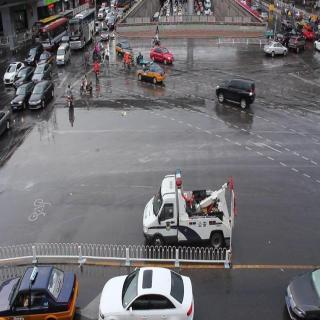BigCar: (70, 15, 92, 53)
Car: (140, 168, 243, 246), (102, 266, 191, 320), (0, 260, 76, 320), (219, 73, 256, 121), (133, 54, 168, 89), (28, 78, 53, 116), (264, 36, 290, 71), (146, 41, 182, 66), (112, 36, 135, 60), (5, 59, 22, 86), (31, 59, 50, 83), (292, 34, 308, 58), (58, 43, 72, 70)
